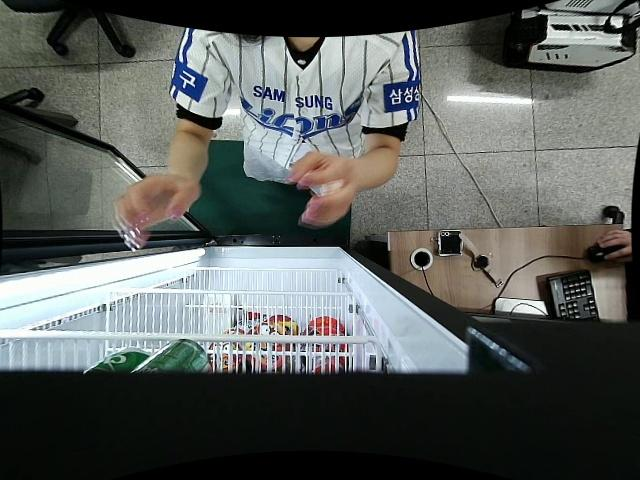00_hand: (110, 174, 204, 253), (287, 149, 358, 229)
